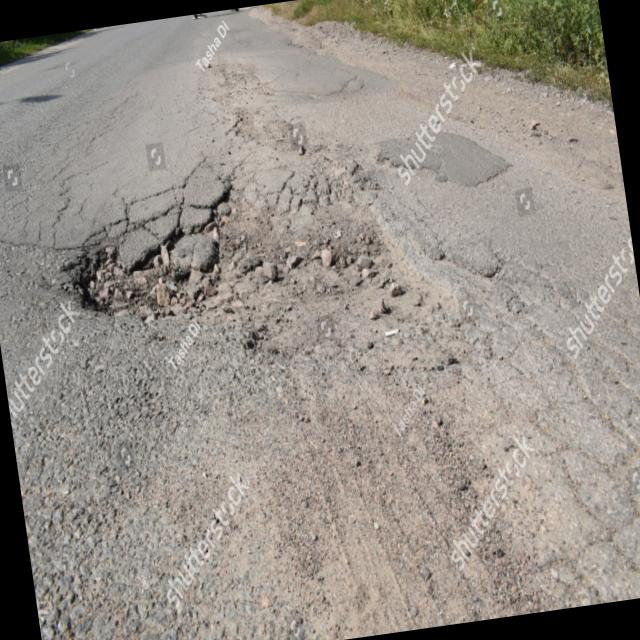Potholes: (32, 98, 550, 467)
